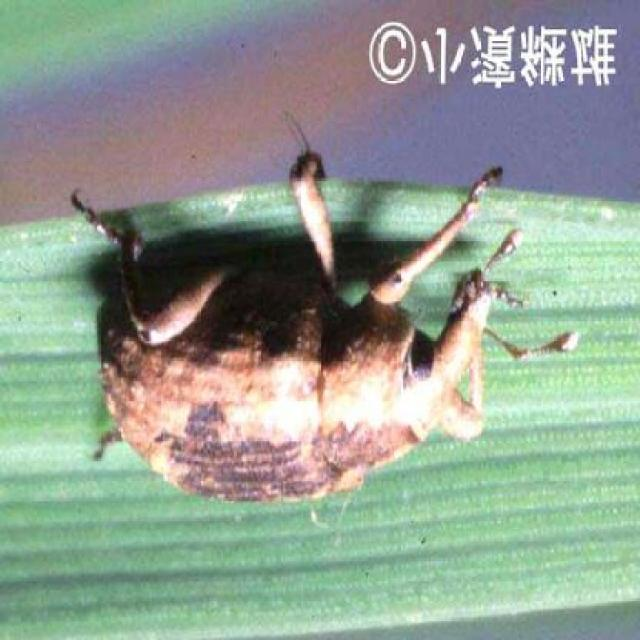rice-bug: (94, 206, 512, 509)
